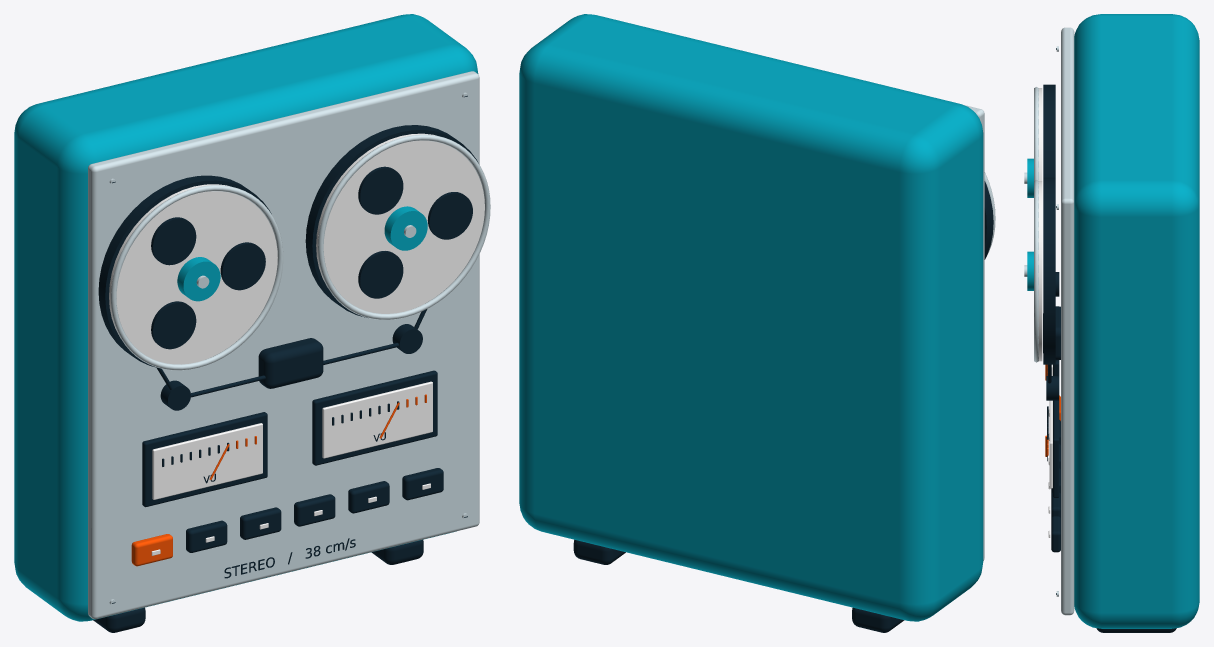
The model's file is REEL_RECORDER.glb.
3 views of the same model, side by side, from view 1: azimuth 30°, elevation 25°; view 2: azimuth 150°, elevation 25°; view 3: azimuth 270°, elevation 25° (orthographic). The views are drawn at different scales.
Visible parts, largest first — view 1: object 4, object 3, Spin_Reel_0, Spin_Reel_1, object 5, object 6, object 7; view 2: object 3, object 5, object 4, Spin_Reel_0; view 3: object 3, object 4, Spin_Reel_1, object 5, Spin_Reel_0, object 6.
Boxes of the visible parts, x1=… form: object 4: x1=88, y1=71, x2=479, y2=619; object 3: x1=14, y1=14, x2=478, y2=621; Spin_Reel_0: x1=98, y1=175, x2=283, y2=370; Spin_Reel_1: x1=305, y1=125, x2=490, y2=319; object 5: x1=93, y1=95, x2=467, y2=632; object 6: x1=151, y1=381, x2=432, y2=555; object 7: x1=131, y1=394, x2=426, y2=566; object 3: x1=519, y1=14, x2=983, y2=621; object 5: x1=573, y1=539, x2=904, y2=632; object 4: x1=964, y1=105, x2=984, y2=560; Spin_Reel_0: x1=984, y1=172, x2=995, y2=259; object 3: x1=1074, y1=14, x2=1199, y2=628; object 4: x1=1056, y1=27, x2=1074, y2=615; Spin_Reel_1: x1=1024, y1=177, x2=1055, y2=364; object 5: x1=1043, y1=48, x2=1176, y2=632; Spin_Reel_0: x1=1024, y1=84, x2=1055, y2=197; object 6: x1=1048, y1=364, x2=1052, y2=537.
Bounding box in the file's own units: 2.7 × 3.13 × 1.07.
